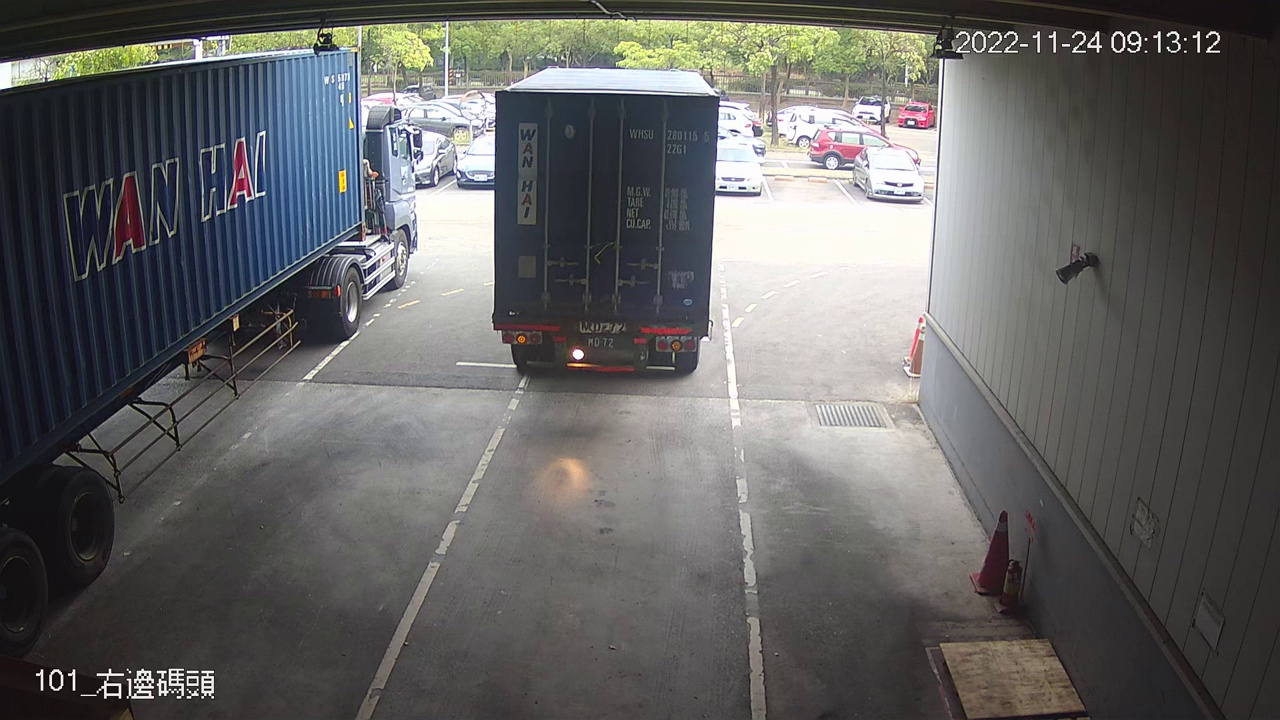container: (626, 122, 711, 159)
